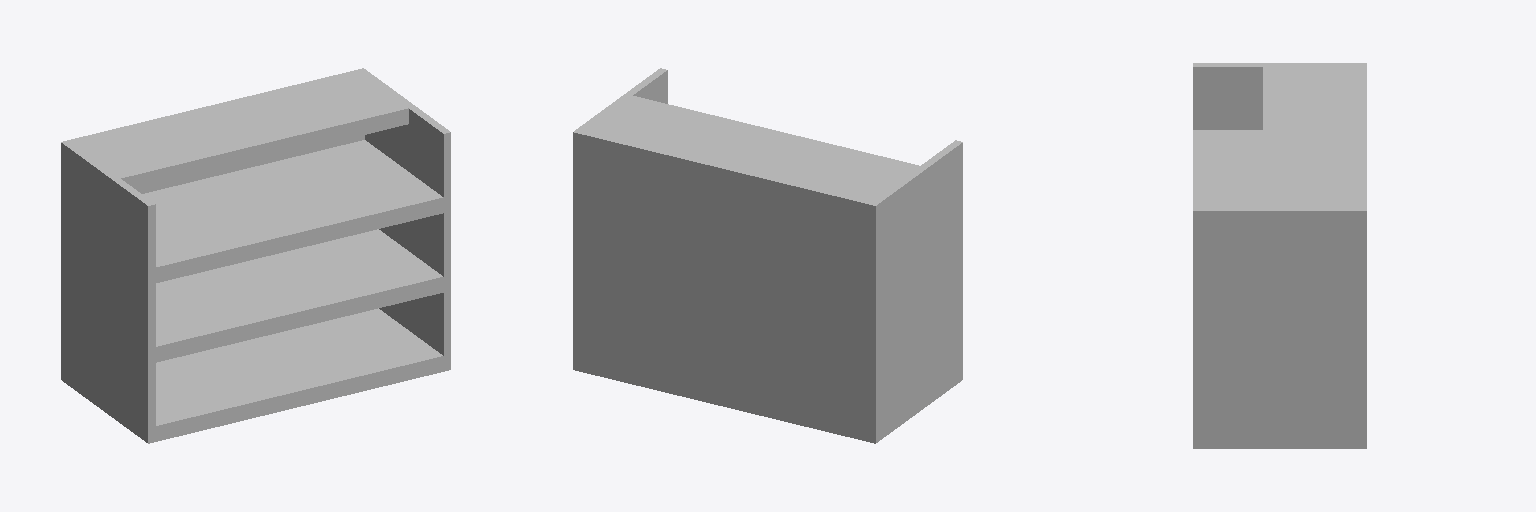
File: Shelf_1.obj
The picture shows the model from 3 angles: view 1: azimuth 30°, elevation 25°; view 2: azimuth 150°, elevation 25°; view 3: azimuth 270°, elevation 25°; orthographic projection.
Visible parts, largest first — view 1: shelf.101_Cube.018; view 2: shelf.101_Cube.018; view 3: shelf.101_Cube.018.
Part boxes in pixels (left/top/right/bottom): shelf.101_Cube.018: left=61, top=68, right=450, bottom=443; shelf.101_Cube.018: left=573, top=68, right=962, bottom=443; shelf.101_Cube.018: left=1193, top=63, right=1366, bottom=448.
Bounding box in the file's own units: 2 × 1.5 × 1.